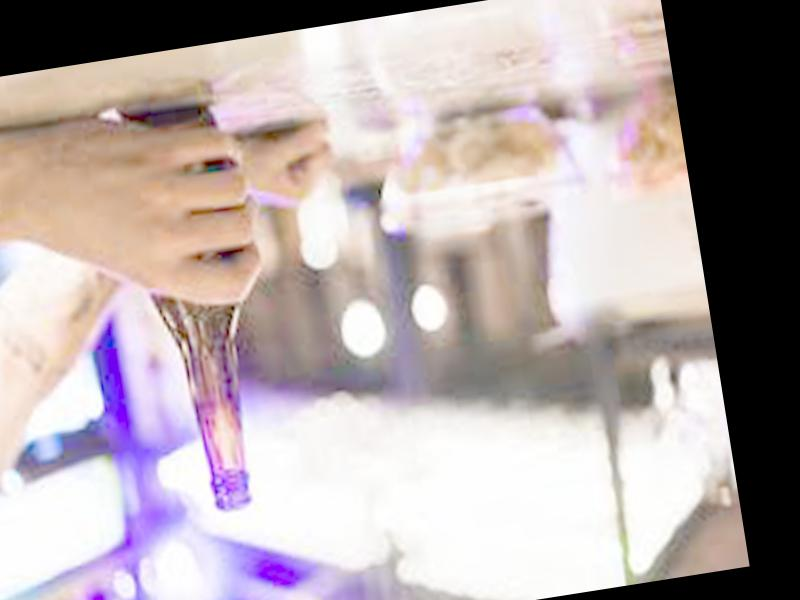Beer: (123, 102, 275, 518)
